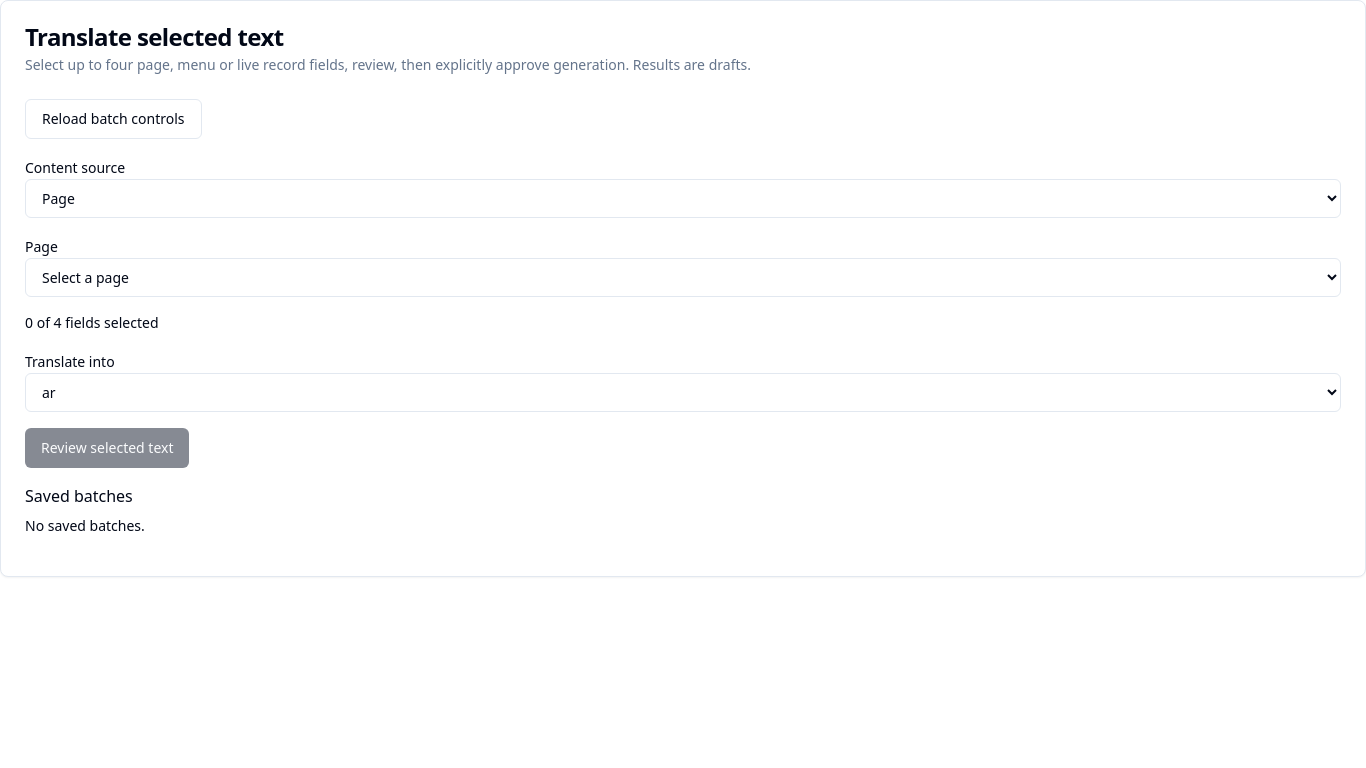
Scenario: Translation batch review › redacts unknown mutation errors, blocks retries, and permits status recovery
Select "Discovery" in the dropdown labelled "Page" at (683, 278), box [25,258,1341,297]
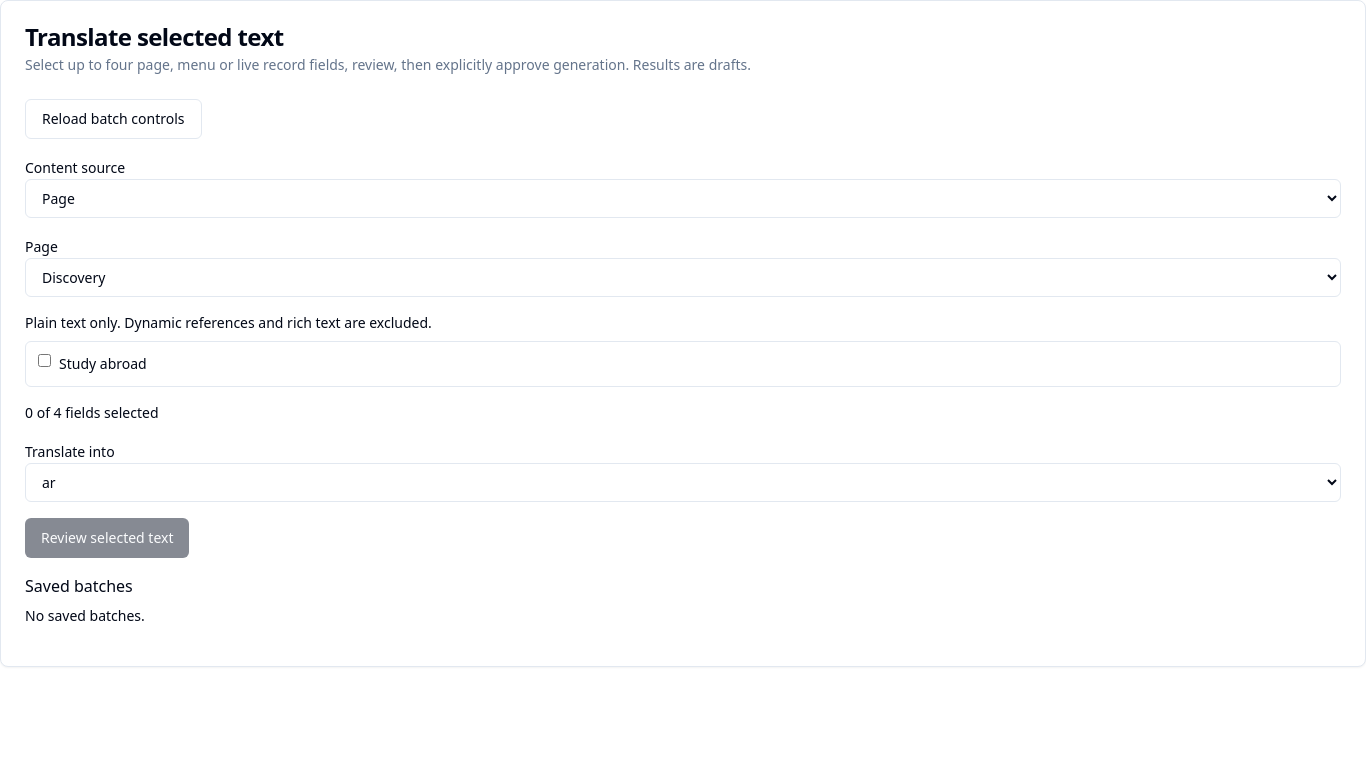
Check: the text "Study abroad" is shown, box [59,354,147,374]
Click the checkbox at (44, 360), box [38,354,51,367]
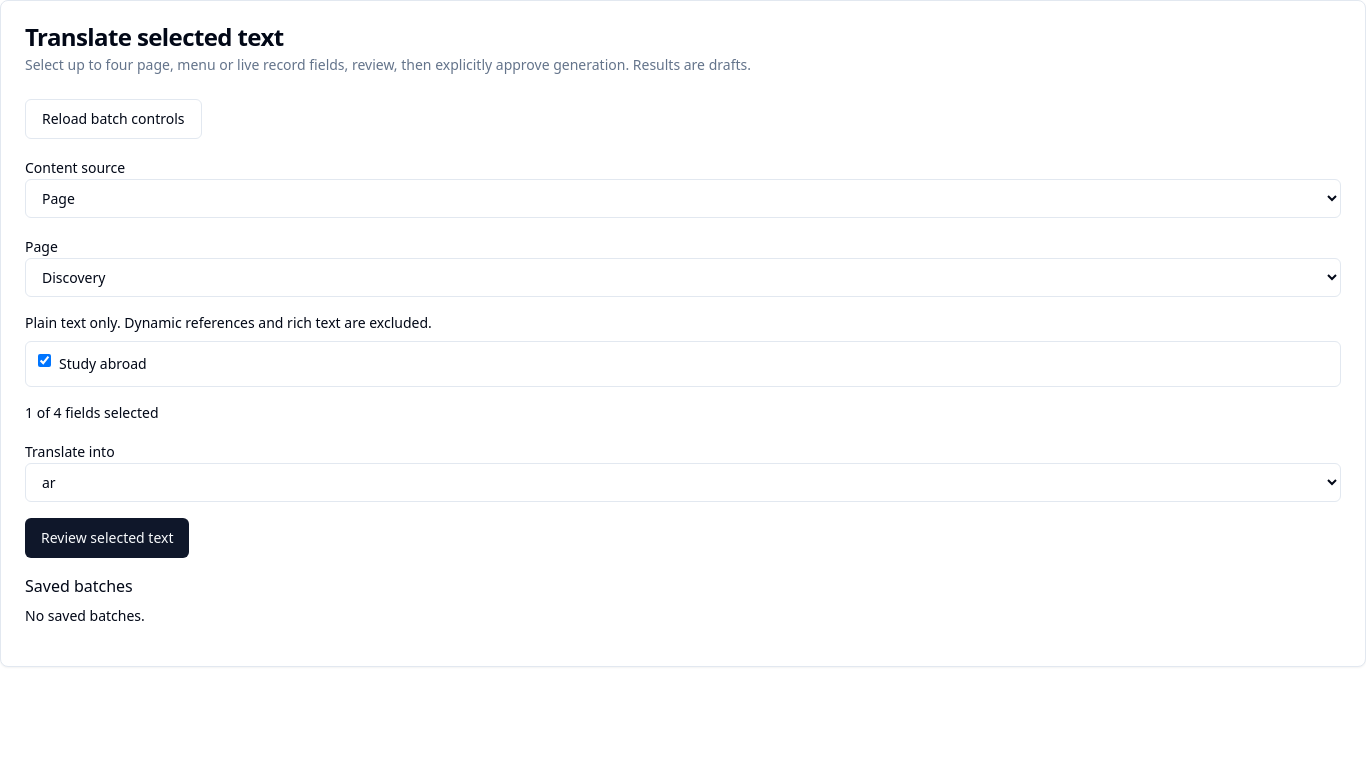
Click the button "Review selected text" at (107, 538), box [25,518,190,558]
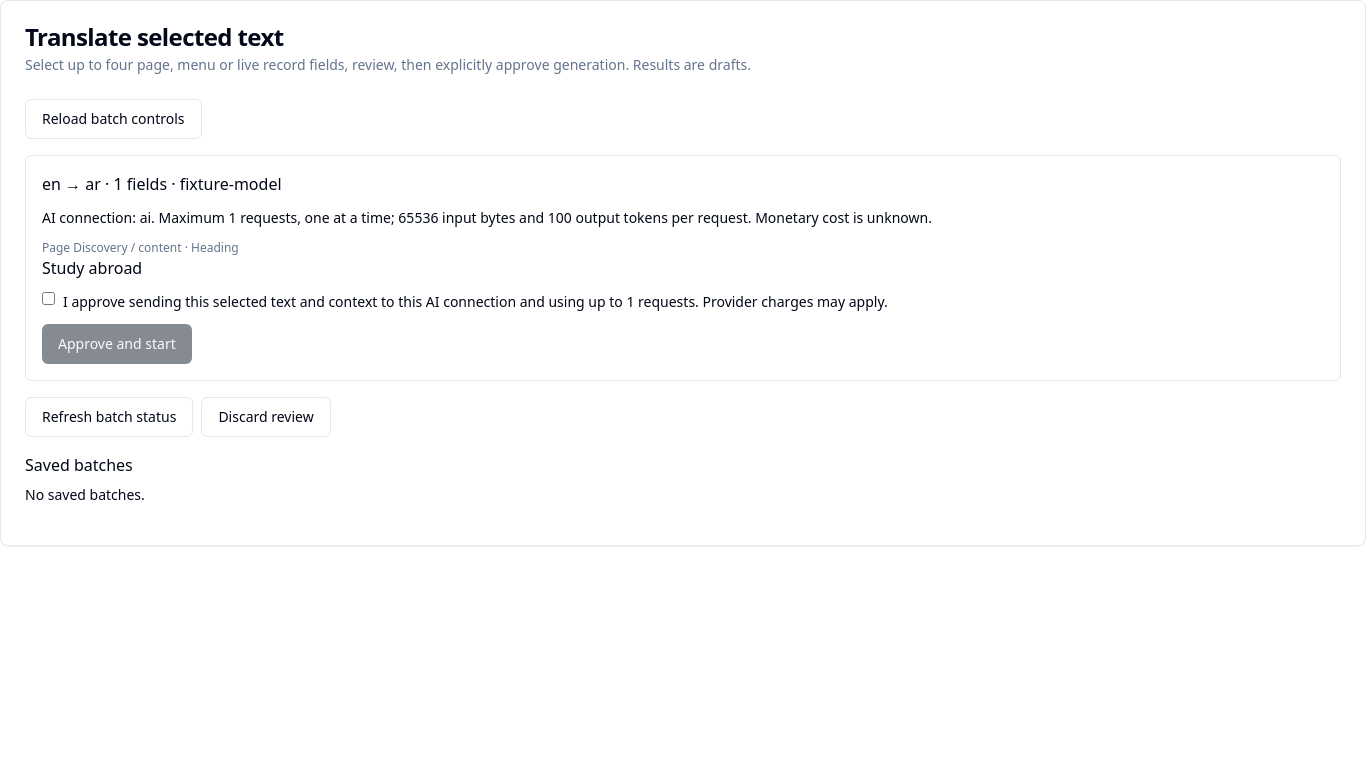
Check: the element named "Translation review" is shown, box [25,155,1341,381]
Click the checkbox at (48, 298), box [42,292,55,305]
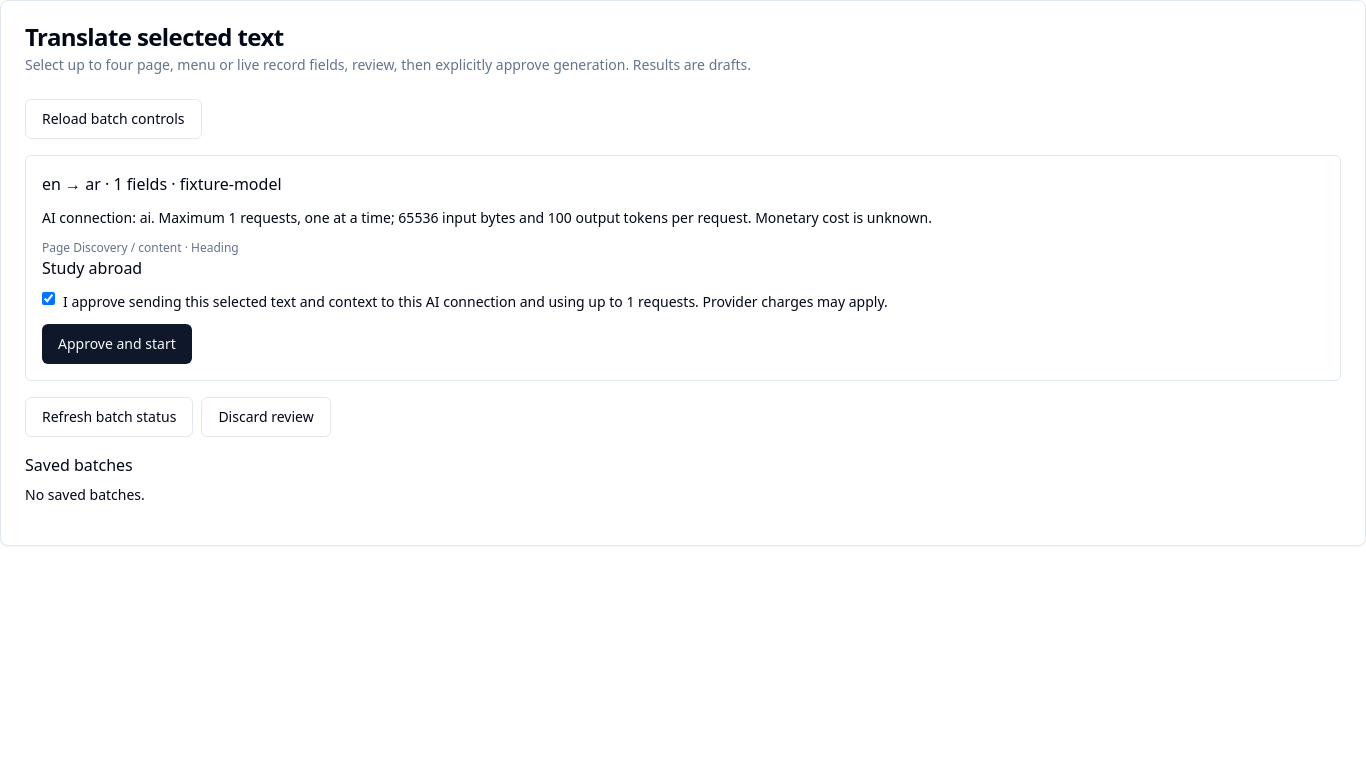
Click the button "Approve and start" at (117, 344), box [42,324,192,364]
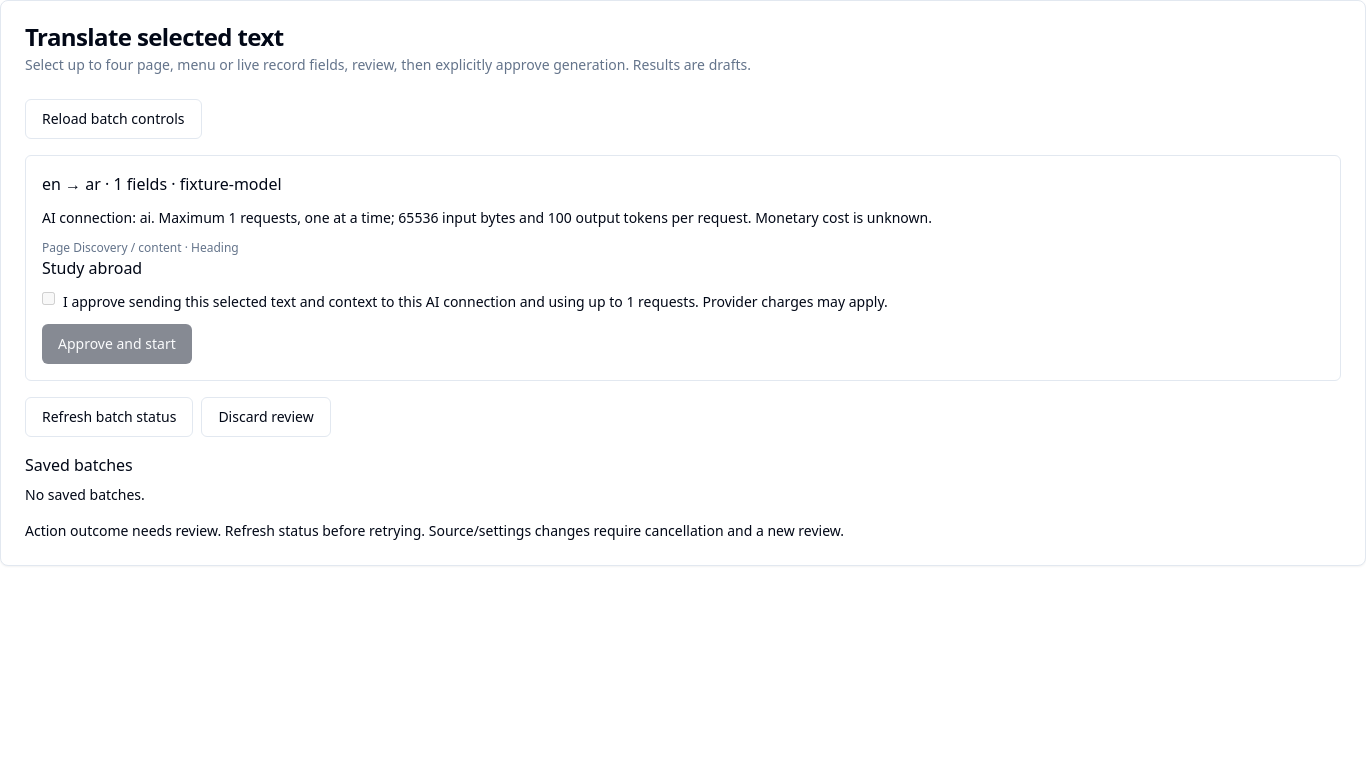
Check: the text "Action outcome needs review" is shown, box [25,521,844,540]
Check: the button "Approve and start" is disabled, box [42,324,192,364]
Click the button "Refresh batch status" at (109, 417), box [25,397,193,437]
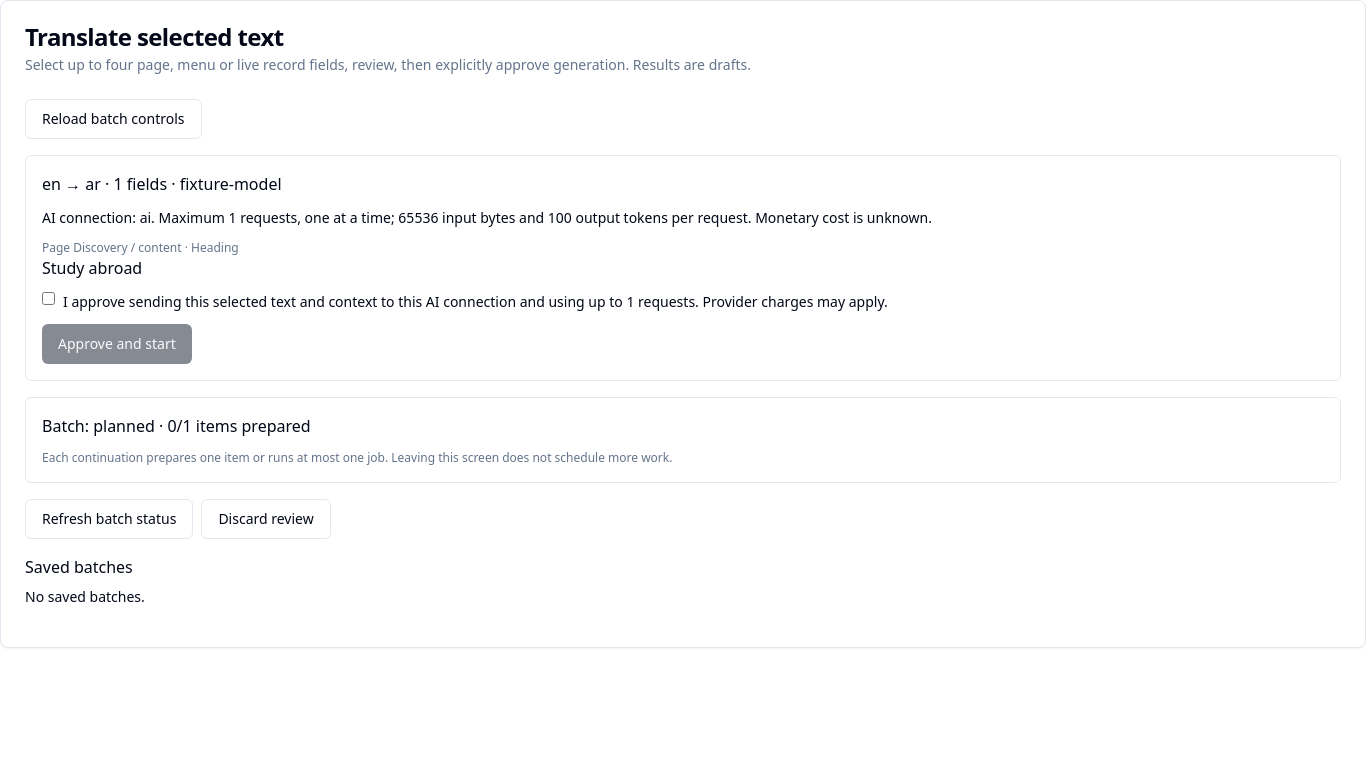
Check: the button "Approve and start" is disabled, box [42,324,192,364]
Check: the text "Batch: planned · 0/1 items prepared" is shown, box [42,415,311,437]
